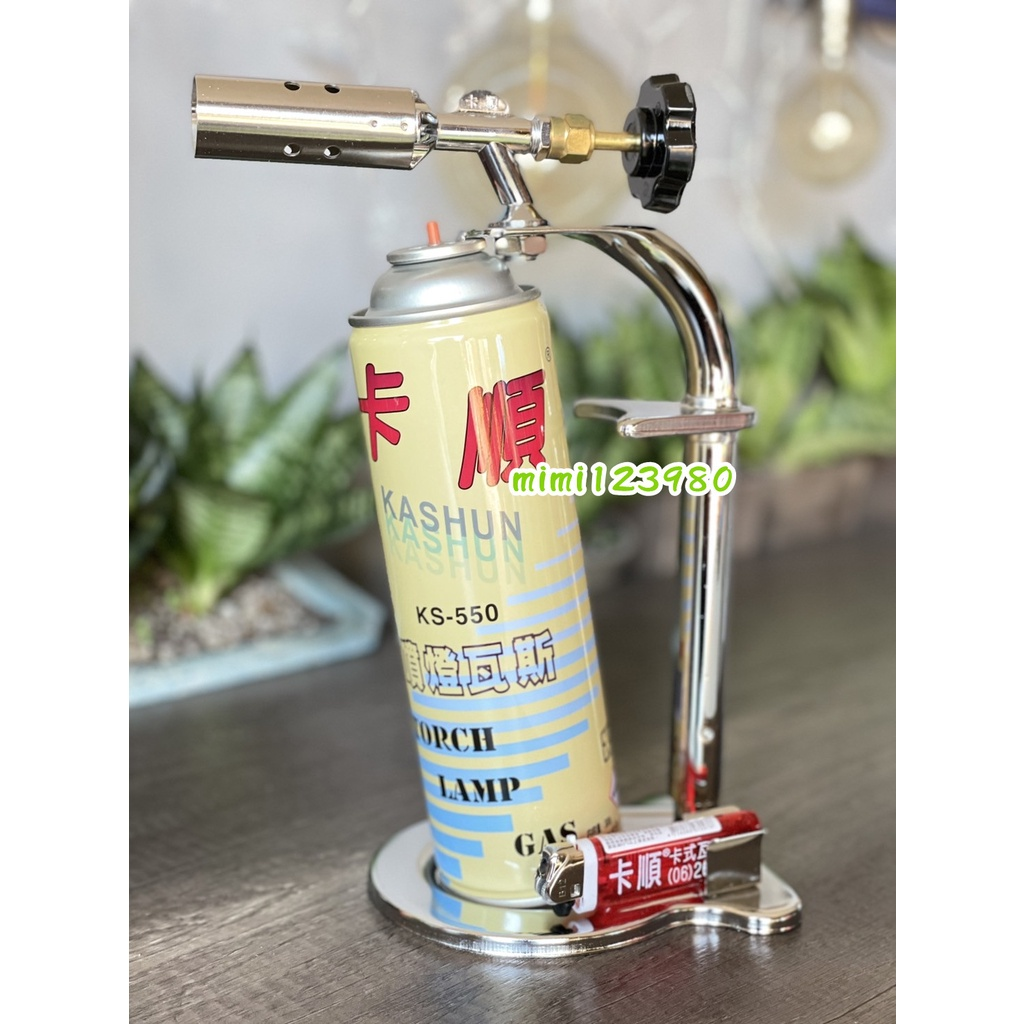gastorch: (189, 74, 804, 957)
